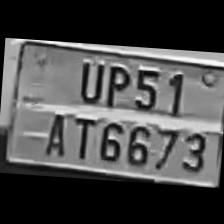1: (159, 66, 190, 118)
3: (176, 124, 207, 174)
5: (127, 61, 162, 111)
6: (92, 116, 124, 164), (122, 119, 152, 169)
7: (149, 121, 177, 170)
A: (39, 106, 70, 158)
P: (98, 57, 132, 109)
T: (66, 110, 96, 160)
U: (70, 54, 104, 104)
